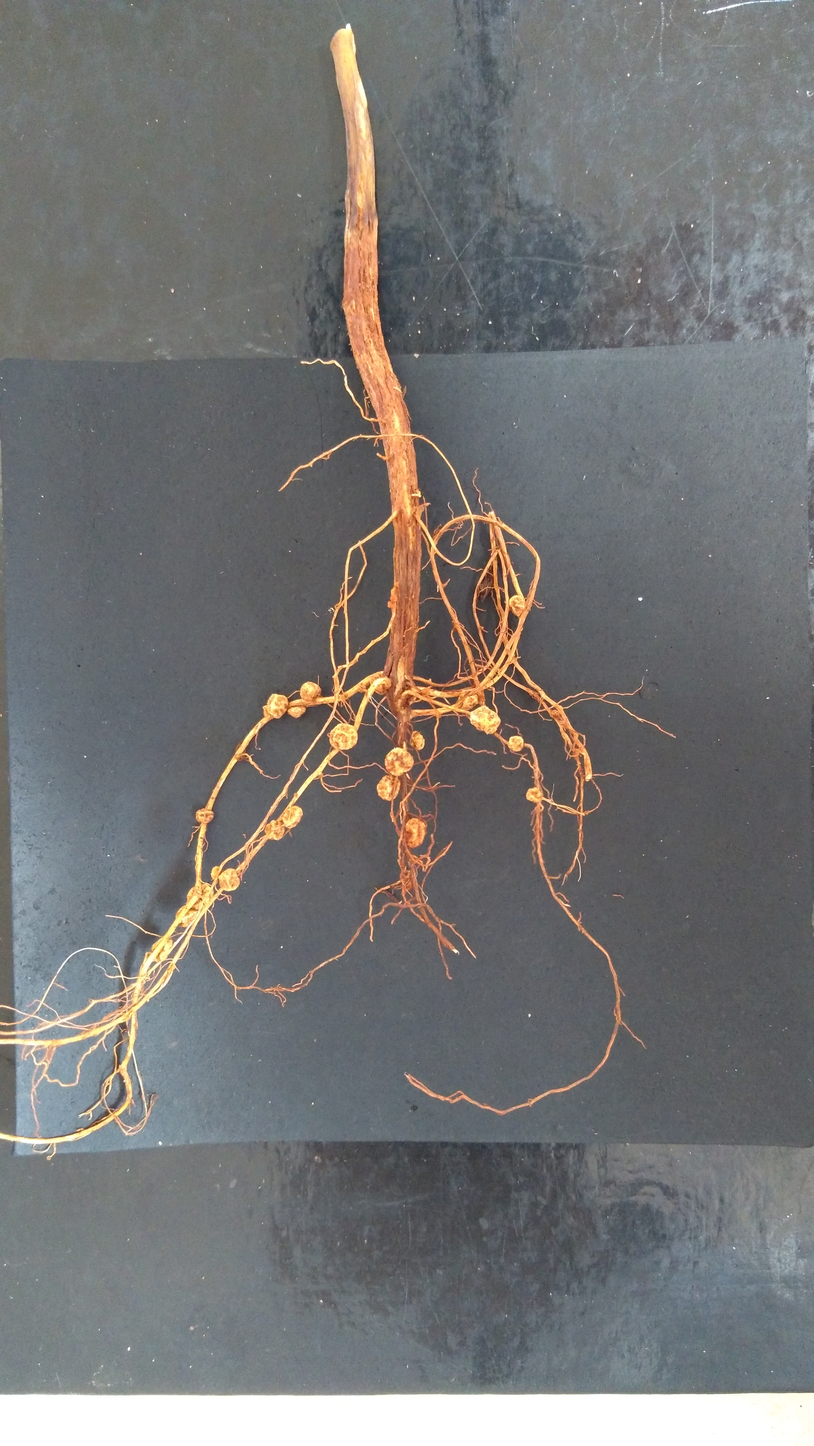nodule: (468, 705, 502, 737), (382, 746, 416, 778), (326, 722, 360, 752), (403, 816, 429, 849), (186, 882, 214, 911), (375, 773, 402, 803), (262, 692, 288, 719), (150, 934, 174, 962), (217, 866, 241, 893), (280, 803, 304, 829), (174, 903, 198, 929), (263, 818, 287, 842), (297, 680, 323, 702), (507, 593, 527, 618), (524, 785, 544, 806), (408, 729, 427, 751), (459, 692, 479, 711), (194, 807, 215, 825), (286, 704, 308, 720), (507, 735, 525, 753), (210, 863, 222, 881)
